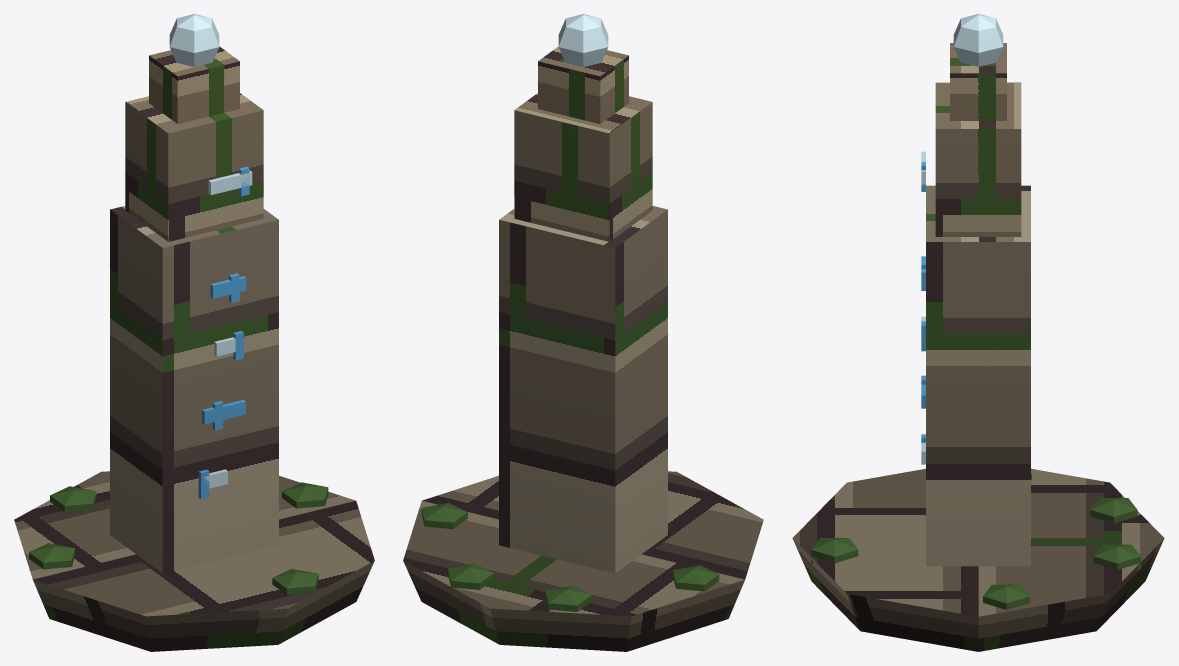
File: waystone.glb
The picture shows the model from 3 angles, left to right: view 1: azimuth 30°, elevation 25°; view 2: azimuth 150°, elevation 25°; view 3: azimuth 270°, elevation 25°; orthographic projection.
Visible parts, largest first — view 1: waystone; view 2: waystone; view 3: waystone.
Boxes of the visible parts, x1,y1,x2,y2 form: waystone: (14, 14, 374, 651); waystone: (403, 14, 763, 651); waystone: (792, 14, 1164, 651).
Bounding box in the file's own units: 1.56 × 2.62 × 1.56.
3 materials, 1 textured.
